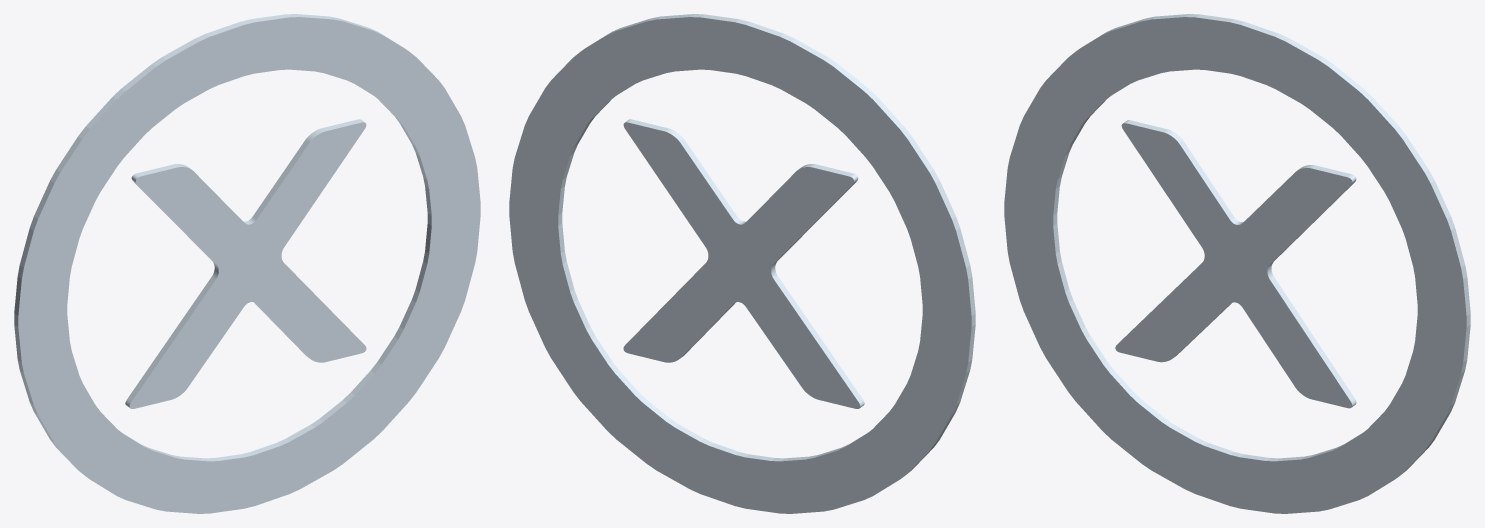
File: Exit_3D_Icon.fbx
3 views of the same model, side by side, from view 1: azimuth 30°, elevation 25°; view 2: azimuth 150°, elevation 25°; view 3: azimuth 330°, elevation 25° (orthographic).
Parts seen in each view (by area): view 1: Exit_3D_Icon_01; view 2: Exit_3D_Icon_01; view 3: Exit_3D_Icon_01.
Boxes of the visible parts, left/top/right/bottom form: Exit_3D_Icon_01: left=14, top=14, right=480, bottom=513; Exit_3D_Icon_01: left=509, top=14, right=975, bottom=513; Exit_3D_Icon_01: left=1004, top=14, right=1470, bottom=513.
Bounding box in the file's own units: 122 × 122 × 1.9.
